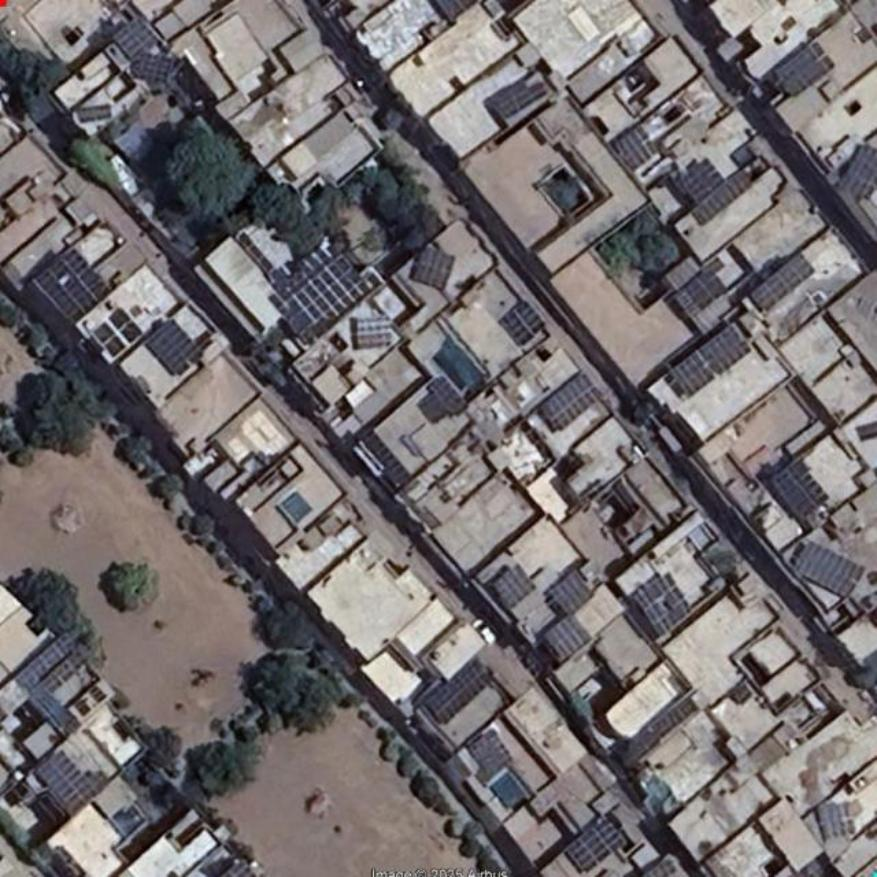Solarpanel: (255, 237, 384, 349), (36, 738, 111, 821), (36, 247, 109, 323), (673, 325, 749, 397), (422, 658, 493, 726), (17, 636, 85, 699), (750, 253, 814, 311), (794, 546, 866, 597), (772, 459, 830, 521), (539, 372, 603, 427), (634, 571, 688, 636), (692, 170, 752, 223), (148, 319, 202, 377), (568, 818, 625, 872), (774, 44, 827, 93), (676, 155, 727, 204), (545, 613, 590, 660), (839, 142, 876, 198), (113, 18, 157, 64), (499, 302, 543, 348), (467, 731, 508, 778), (501, 77, 549, 117), (614, 127, 657, 171), (550, 573, 593, 616), (411, 245, 454, 286), (684, 268, 727, 307), (495, 567, 533, 607), (426, 377, 464, 414), (129, 51, 172, 83)
